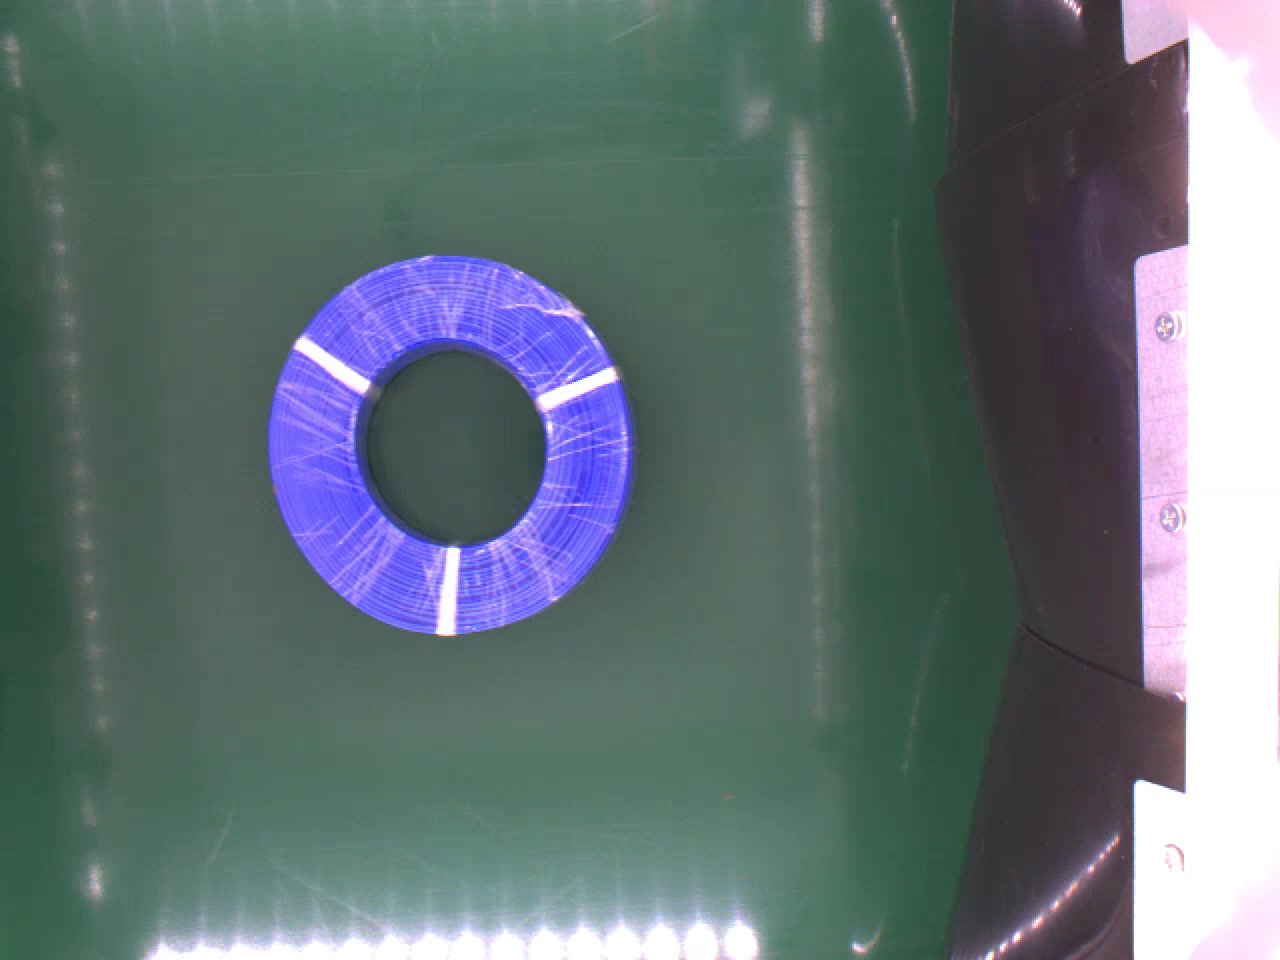blue: (259, 254, 643, 637)
